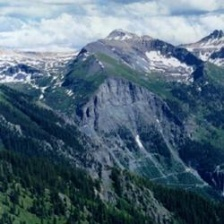neutral: (2, 8, 221, 220)
